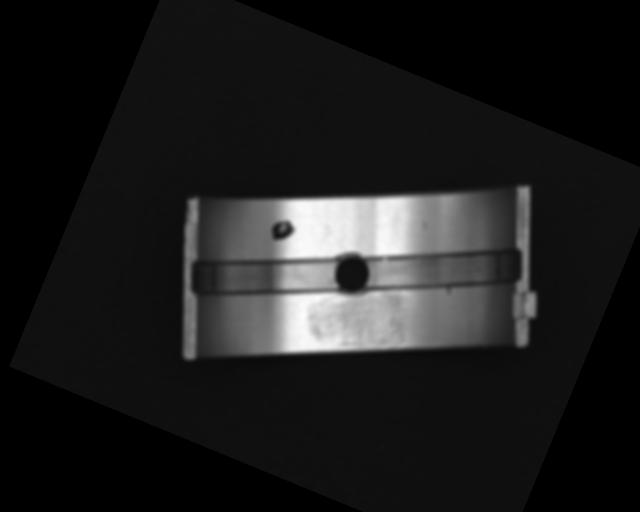blot: (266, 215, 298, 247)
bruise: (442, 282, 456, 297), (417, 219, 429, 232)
gap: (350, 194, 526, 342), (179, 206, 351, 352)
hole: (323, 244, 382, 304)
scratch: (295, 259, 421, 373)
